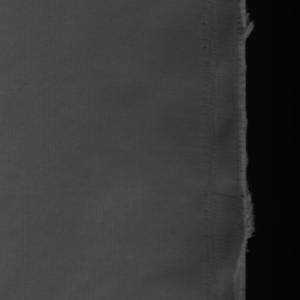Damage: (231, 1, 266, 300)
